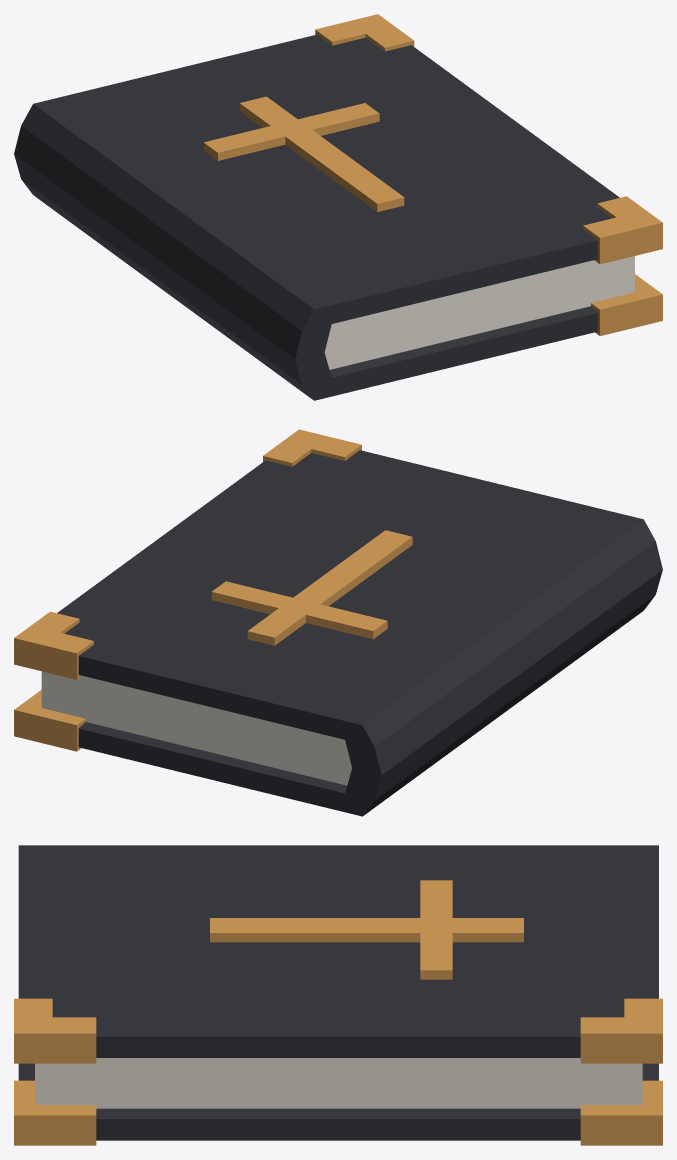
Rendered from Book_03.fbx.
3 views of the same model, one above another, from view 1: azimuth 30°, elevation 25°; view 2: azimuth 150°, elevation 25°; view 3: azimuth 270°, elevation 25° (orthographic). The views are drawn at different scales.
Parts seen in each view (by area): view 1: Book_03; view 2: Book_03; view 3: Book_03.
Part boxes in pixels (x1,y1,x2,y2): Book_03: (14, 14, 662, 400); Book_03: (14, 429, 662, 816); Book_03: (14, 845, 662, 1145).
Size of the model in its own units: 0.3123 by 0.0837 by 0.4214.
